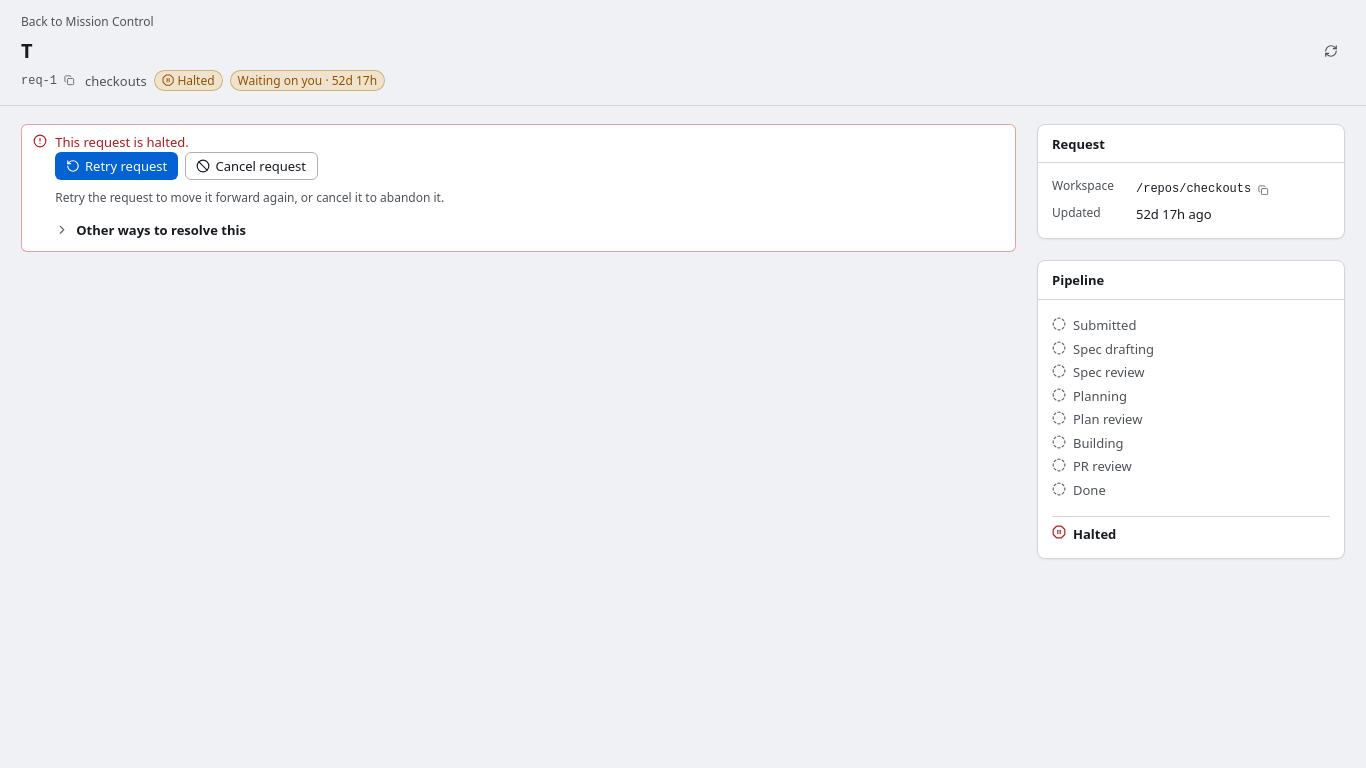
Scenario: the halted/quarantined recovery callout › a refused retry stays in the dialog with the server's message
The image size is (1366, 768).
Click the button "Retry request" at (117, 166), box left=55, top=152, right=178, bottom=180
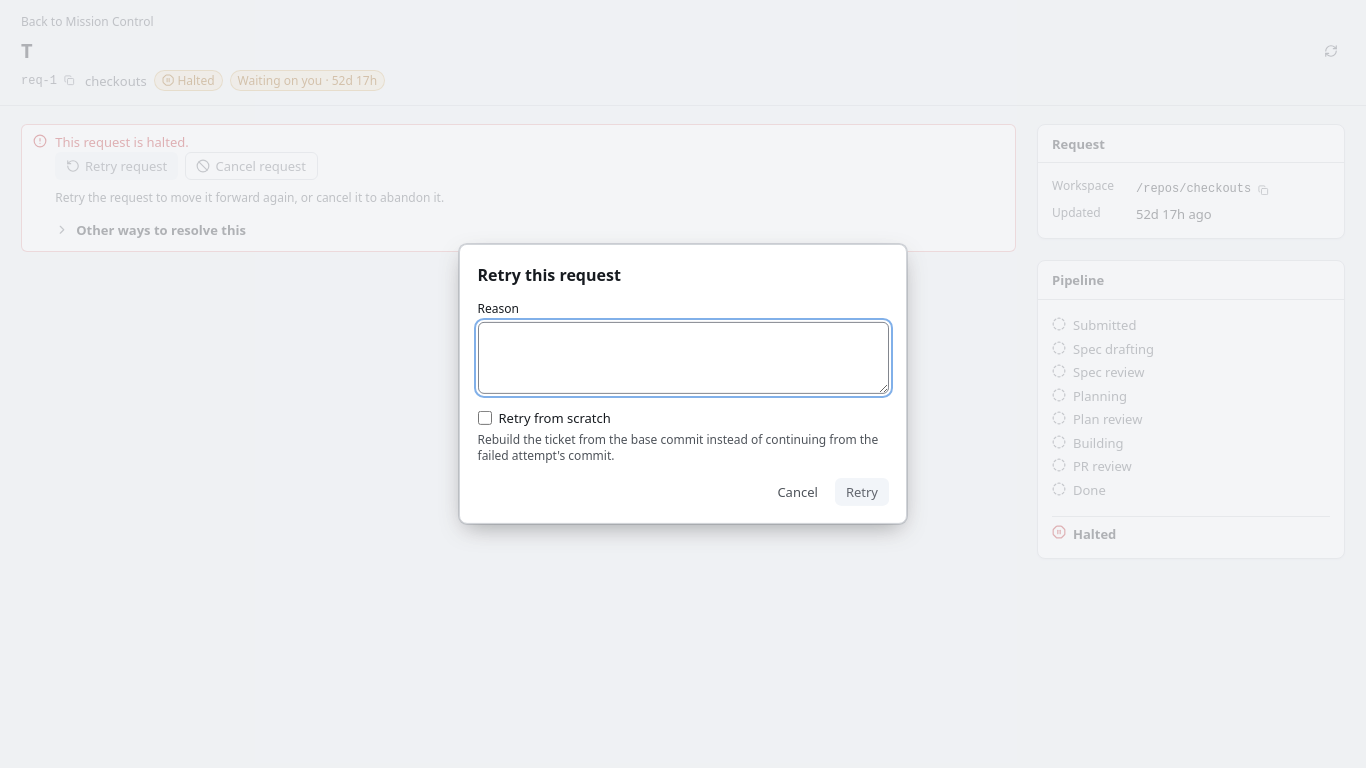
Type "again" into the text box labelled "Reason" at (683, 358), box left=478, top=322, right=888, bottom=394
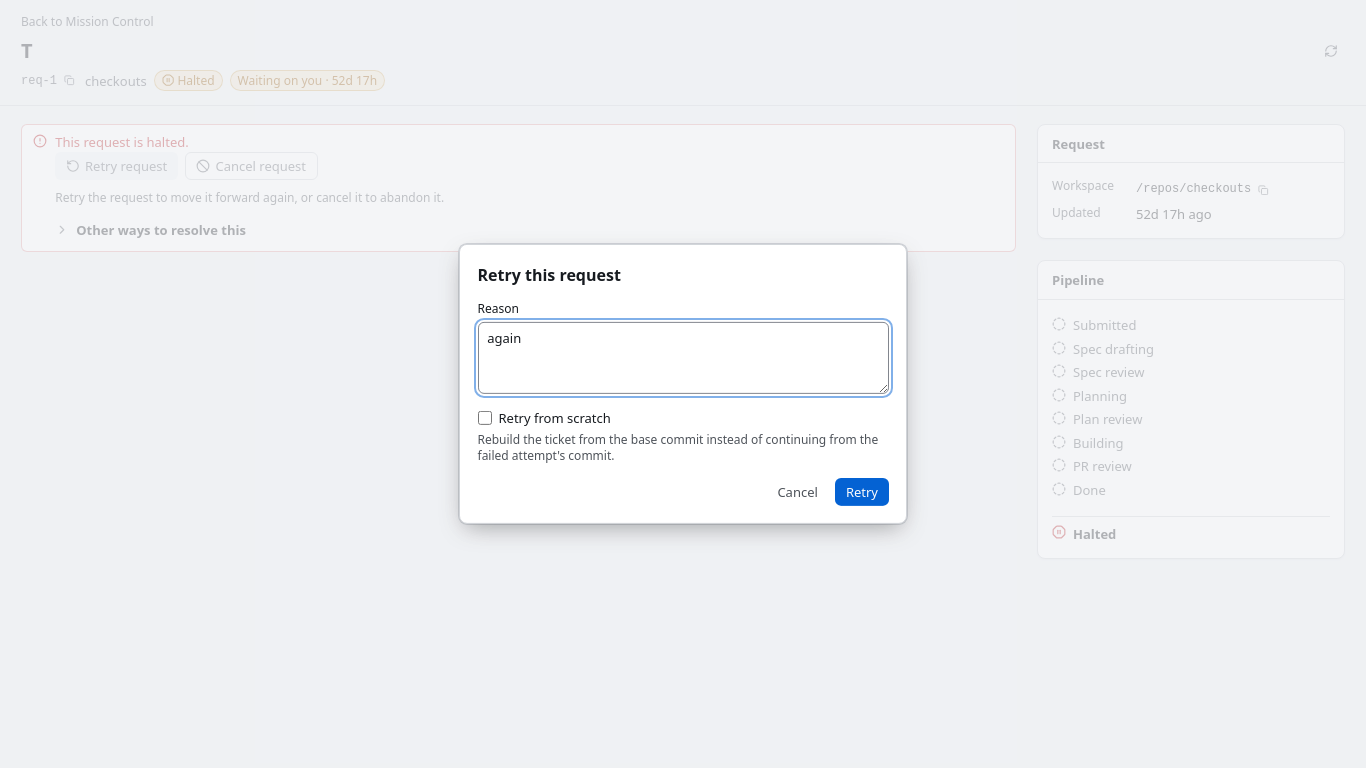
Click the button "Retry" at (862, 492), box left=835, top=478, right=888, bottom=506
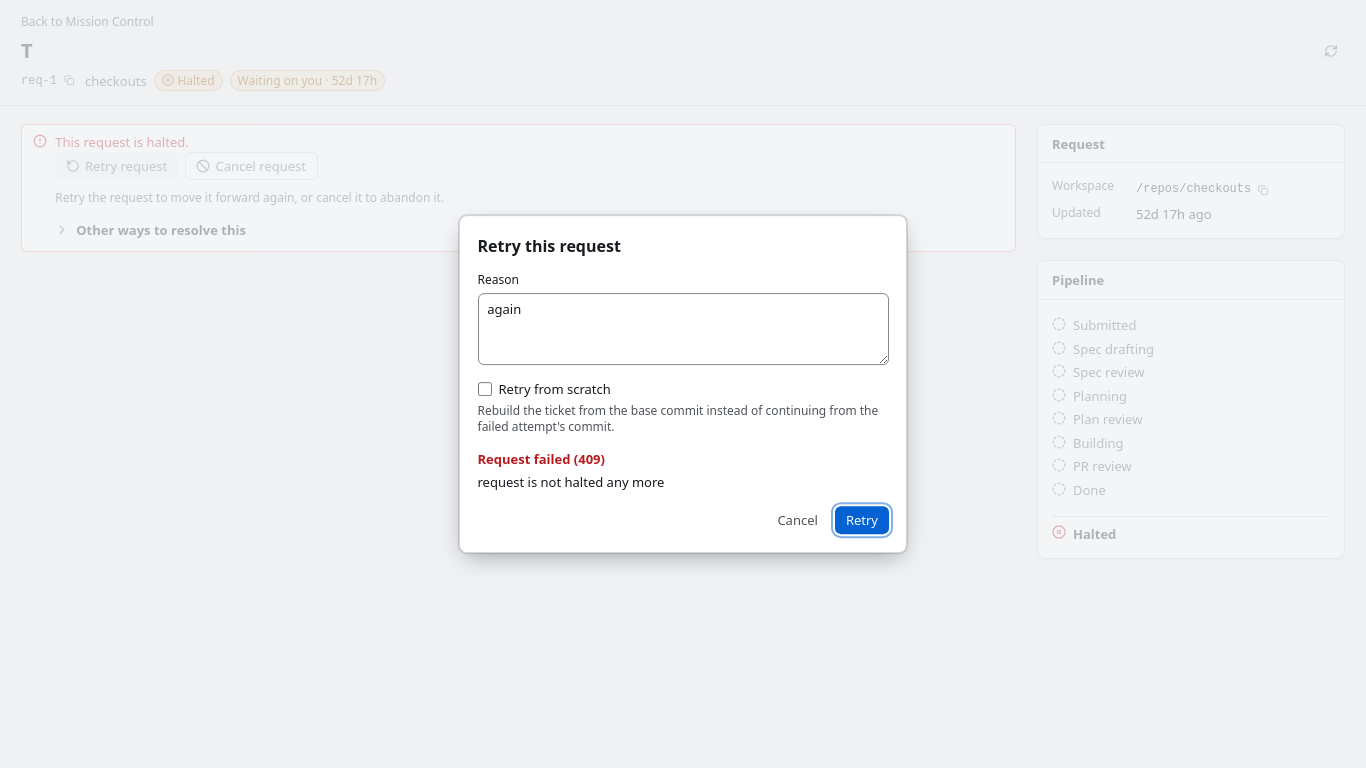
Expected: the dialog is shown, left=459, top=215, right=907, bottom=553
Expected: the text "request is not halted any more" is shown, left=478, top=472, right=664, bottom=492
